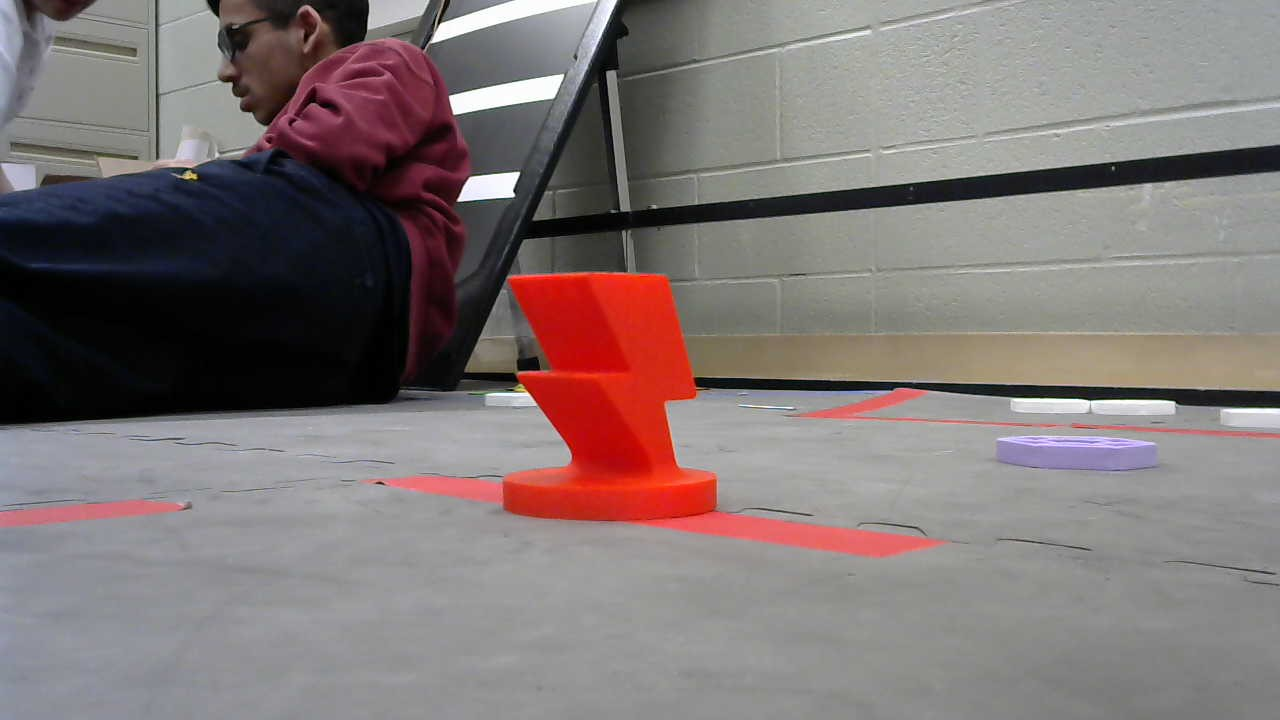redobject: (498, 270, 722, 524)
